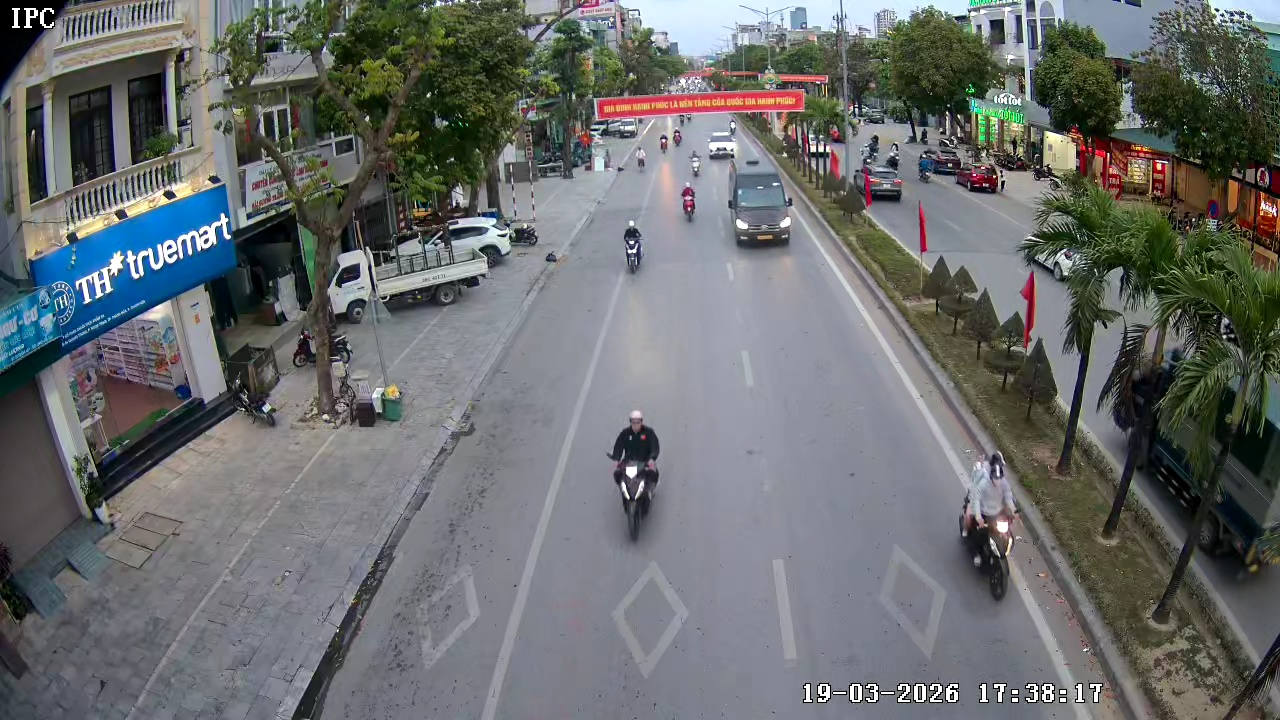car: (863, 163, 905, 202), (707, 130, 737, 160)
motorbike: (956, 451, 1020, 602), (606, 408, 664, 542), (620, 218, 645, 275), (680, 180, 697, 224), (688, 147, 703, 178), (674, 119, 686, 150)
truck: (726, 167, 794, 247)
